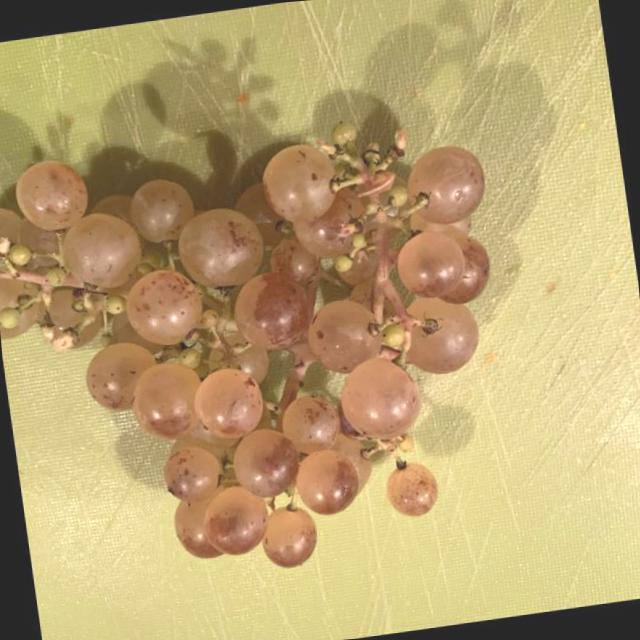Grapes: (0, 81, 544, 616)
